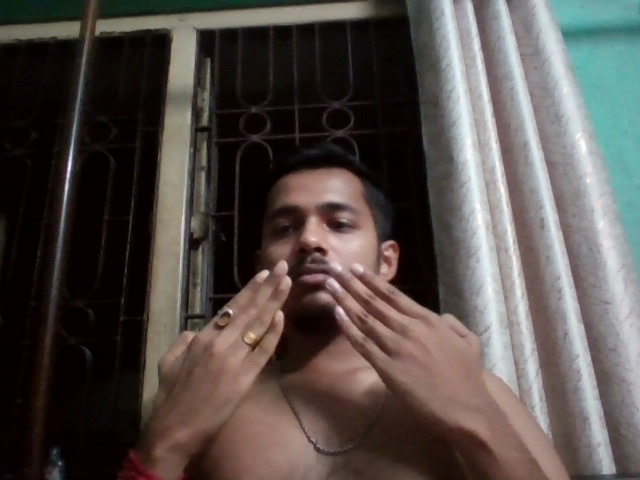Thankyou: (173, 249, 478, 427)
